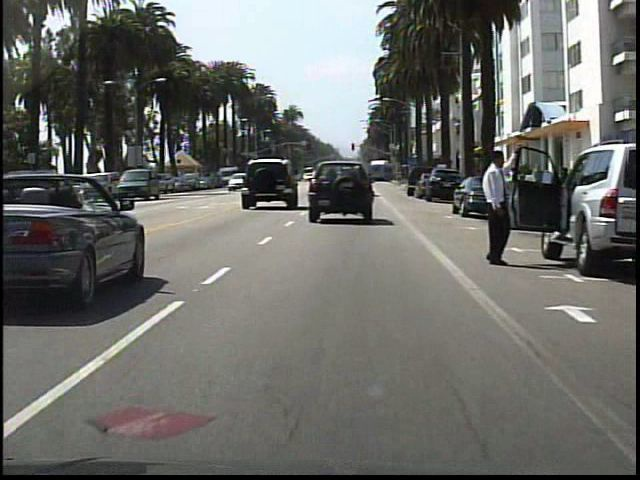person: (470, 141, 524, 271)
